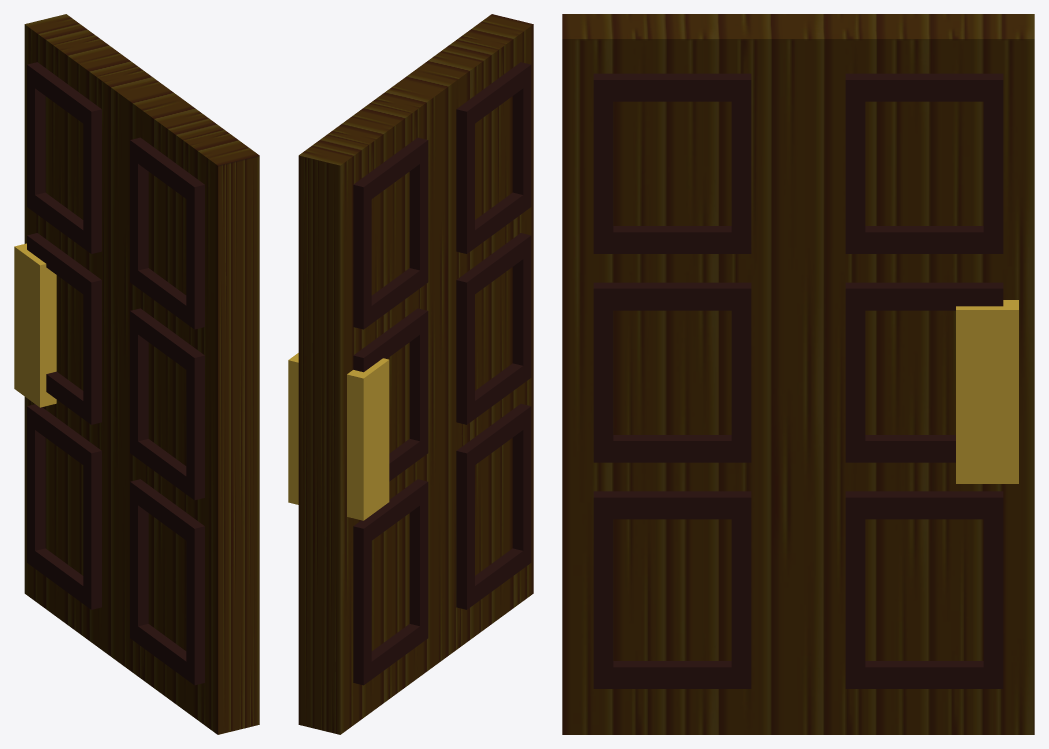
The model's file is Door.fbx.
The picture shows the model from 3 angles, left to right: view 1: azimuth 30°, elevation 25°; view 2: azimuth 150°, elevation 25°; view 3: azimuth 270°, elevation 25°; orthographic projection. The views are drawn at different scales.
Parts seen in each view (by area): view 1: Cube, Cube.006, Cube.005, Cube.001, Cube.004, Cube.002, Cube.007, Cube.003; view 2: Cube, Cube.006, Cube.005, Cube.007, Cube.002, Cube.004, Cube.001, Cube.003; view 3: Cube, Cube.005, Cube.006, Cube.001, Cube.002, Cube.004, Cube.007, Cube.003.
Boxes of the visible parts, x1,y1,x2,y2 form: Cube: (24,14,259,734); Cube.006: (130,479,204,685); Cube.005: (27,404,101,609); Cube.001: (130,137,204,329); Cube.004: (130,308,204,500); Cube.002: (27,62,101,253); Cube.007: (14,243,56,407); Cube.003: (27,233,101,424); Cube: (298,14,533,734); Cube.006: (456,404,531,609); Cube.005: (353,479,428,685); Cube.007: (288,353,389,520); Cube.002: (353,137,428,329); Cube.004: (456,233,531,424); Cube.001: (456,62,531,253); Cube.003: (353,308,428,481); Cube: (562,14,1034,734); Cube.005: (845,491,1003,688); Cube.006: (593,491,751,688); Cube.001: (593,73,751,253); Cube.002: (845,73,1003,253); Cube.004: (593,282,751,462); Cube.007: (956,300,1018,483); Cube.003: (845,282,1003,462).
Bounding box in the file's own units: 180 × 1300 × 800.
